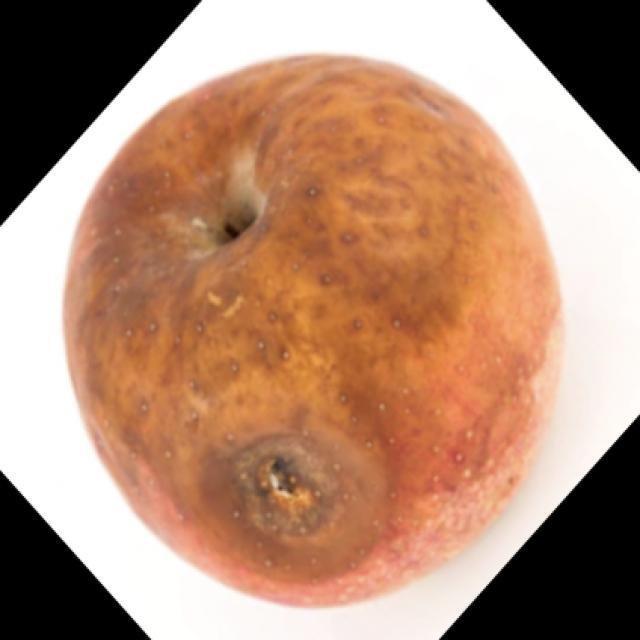Rotten: (82, 48, 568, 615)
